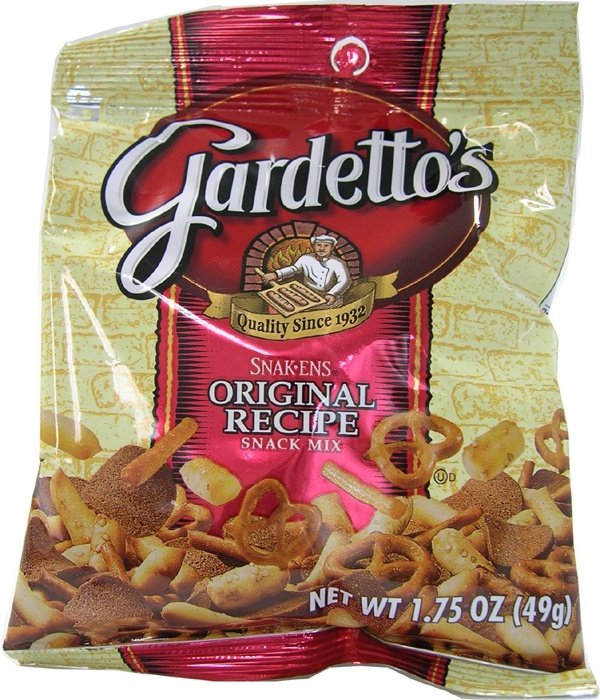grozi_3: (1, 0, 599, 700)
